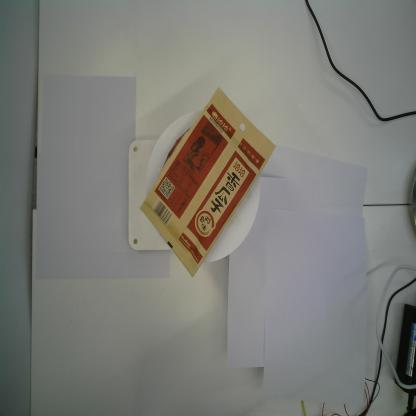Dried Food: (138, 83, 278, 280)
